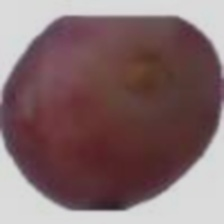grapes: (22, 1, 174, 189)
